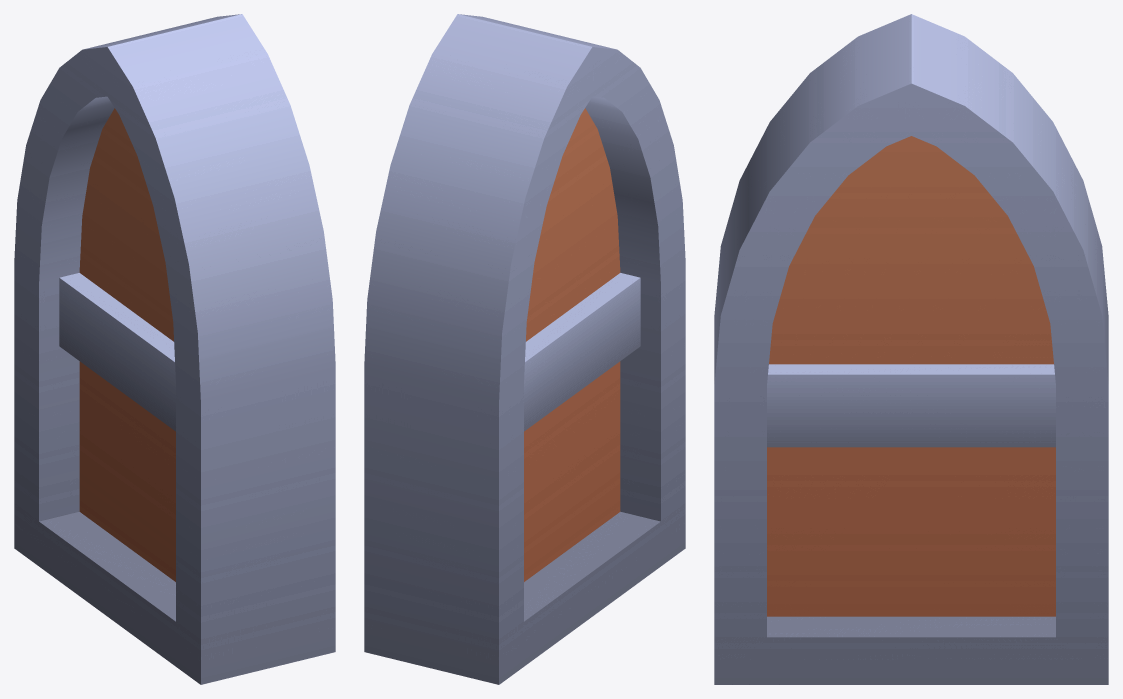
File: door.glb
3 renders of one model, left to right at view 1: azimuth 30°, elevation 25°; view 2: azimuth 150°, elevation 25°; view 3: azimuth 270°, elevation 25°, orthographic. The views are drawn at different scales.
Visible parts, largest first — view 1: door; view 2: door; view 3: door.
Boxes of the visible parts, left/top/right/bottom form: door: left=14, top=14, right=335, bottom=684; door: left=364, top=14, right=685, bottom=684; door: left=714, top=14, right=1108, bottom=684.
Bounding box in the file's own units: 0.15 × 0.6053 × 0.3594.
Materials: 1 (1 with a texture image).
